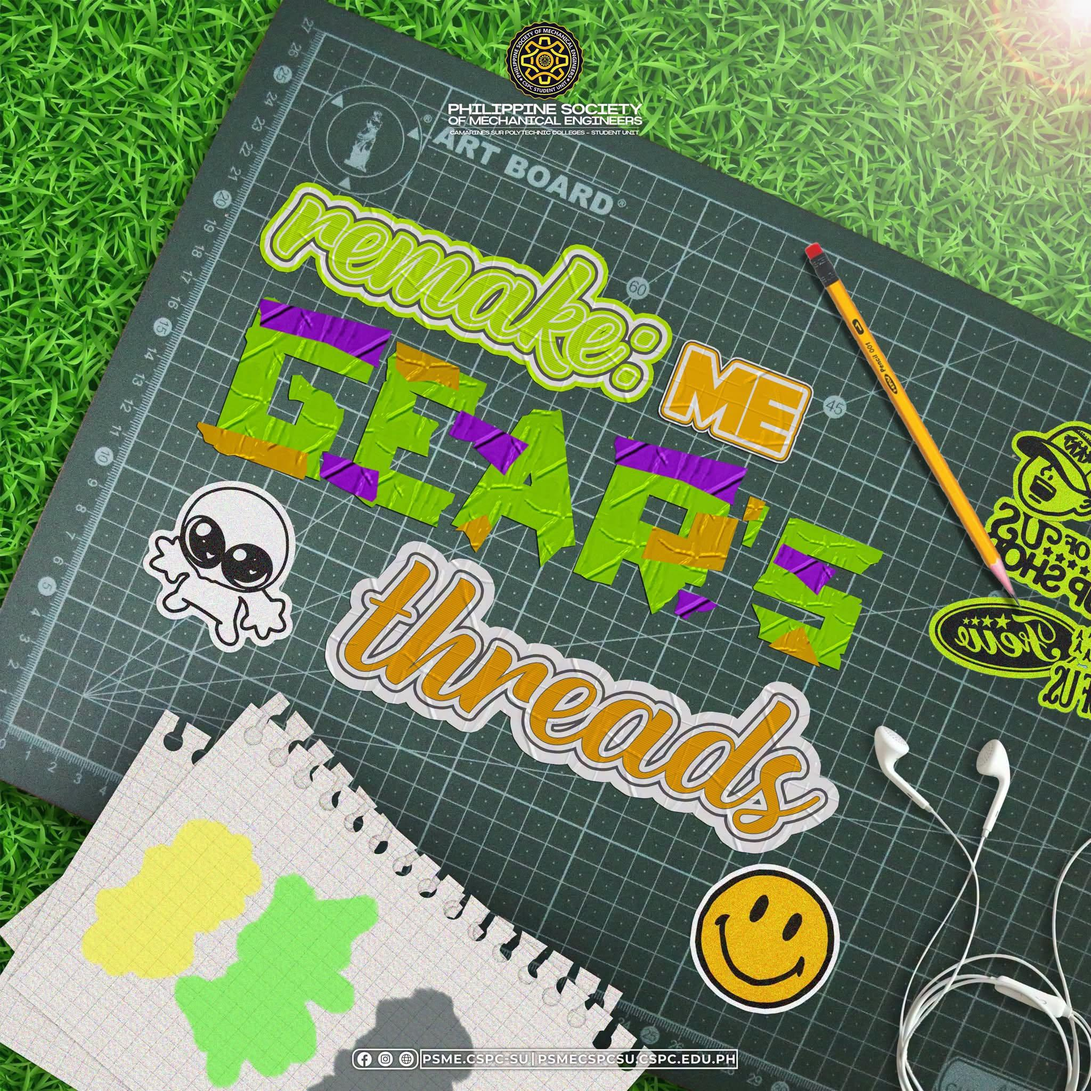embellishment: (0, 672, 679, 1090), (866, 715, 1090, 1090), (796, 237, 1014, 601), (937, 412, 1090, 727), (139, 470, 306, 665), (697, 858, 848, 1022)
logo: (497, 16, 596, 103)
text: (194, 170, 905, 862), (433, 92, 657, 139)
underlay: (5, 1, 1090, 1087)
